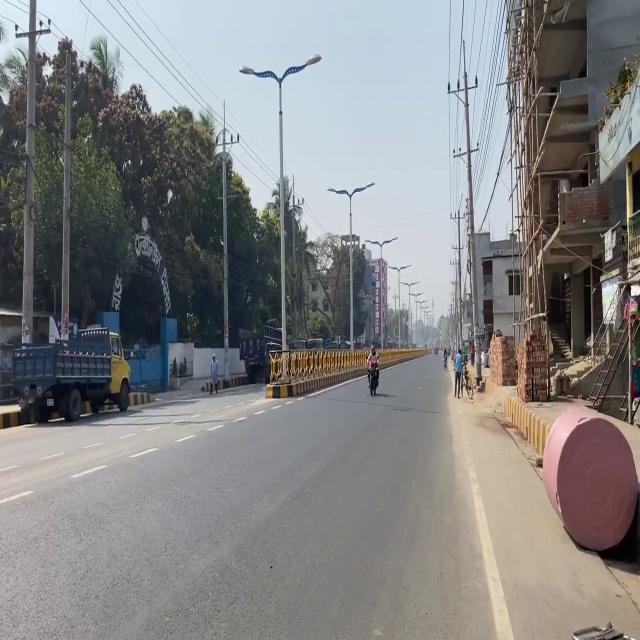Construction-barrier: (0, 390, 157, 429), (550, 353, 606, 397)
Dog: (541, 405, 638, 551)
Fallen-tree: (461, 366, 474, 399)
Garbage-bin: (366, 347, 380, 395), (210, 354, 219, 394)
Light-pole: (20, 0, 38, 343), (59, 48, 74, 338)
Pole: (264, 345, 432, 398)
Pothole: (452, 362, 639, 638)
Traffic-cone: (10, 323, 131, 423)
